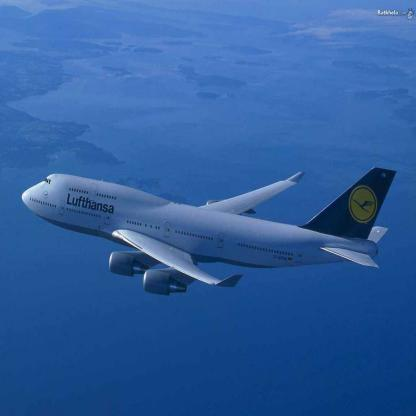CIV_Plane: (17, 165, 396, 295)
